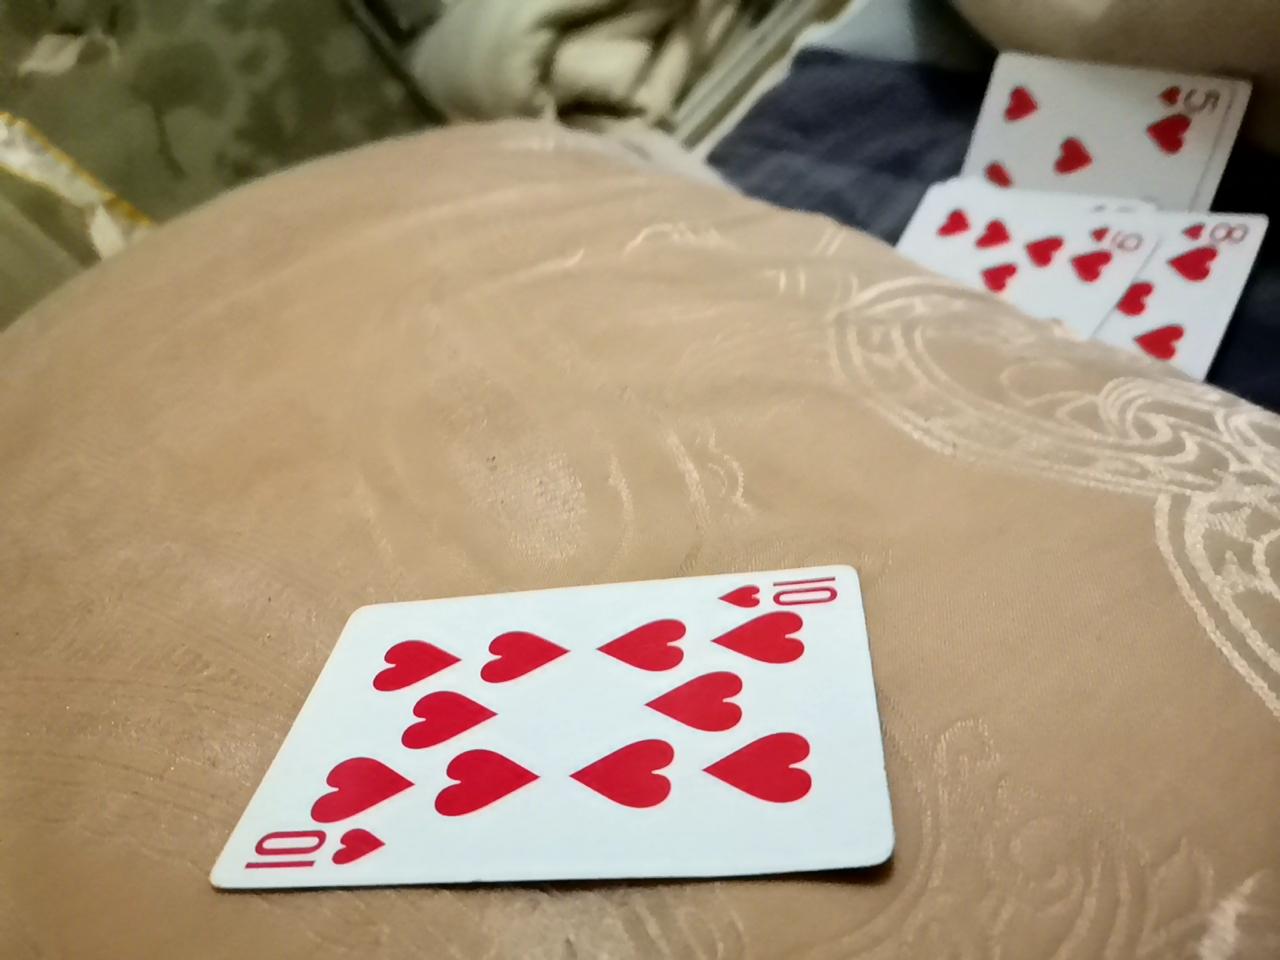hx 10: (212, 555, 897, 885)
